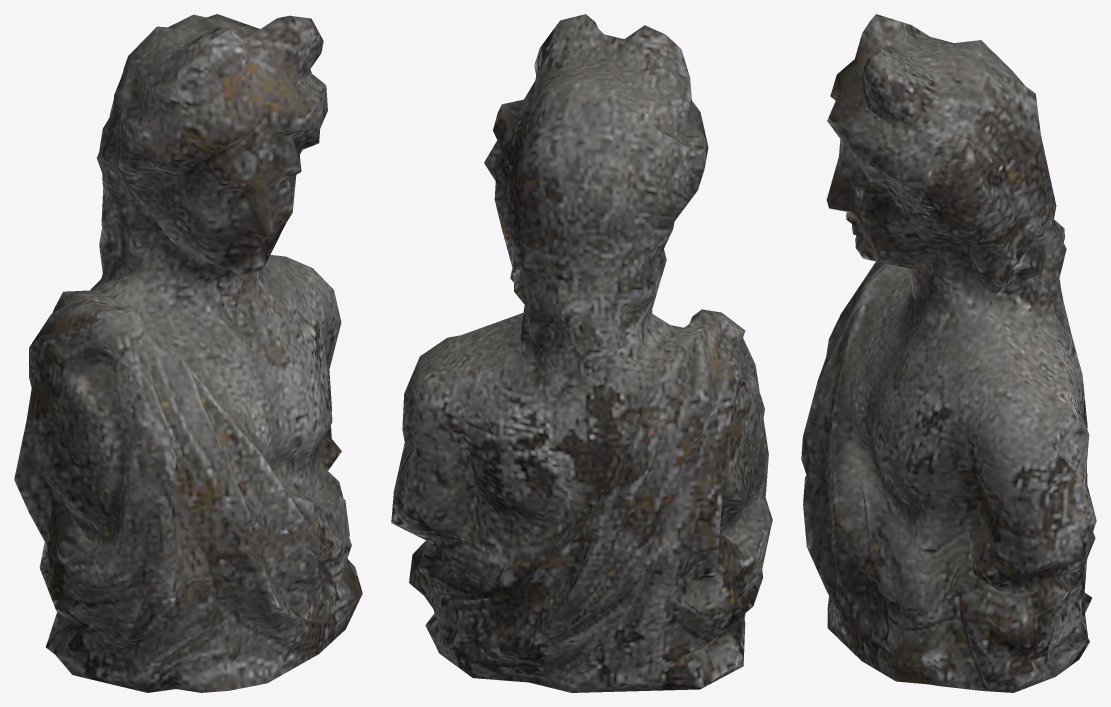
File: 079_buststatue01a.fbx
3 views of the same model, side by side, from view 1: azimuth 30°, elevation 25°; view 2: azimuth 150°, elevation 25°; view 3: azimuth 270°, elevation 25° (orthographic). The views are drawn at different scales.
Parts seen in each view (by area): view 1: LOD_1_Group_0_Sub_1__sm32_079_BustStatue01A_B_Mat; view 2: LOD_1_Group_0_Sub_1__sm32_079_BustStatue01A_B_Mat; view 3: LOD_1_Group_0_Sub_1__sm32_079_BustStatue01A_B_Mat.
Part boxes in pixels (x1,y1,x2,y2): LOD_1_Group_0_Sub_1__sm32_079_BustStatue01A_B_Mat: (14,14,362,692); LOD_1_Group_0_Sub_1__sm32_079_BustStatue01A_B_Mat: (391,14,772,692); LOD_1_Group_0_Sub_1__sm32_079_BustStatue01A_B_Mat: (801,14,1096,692).
Size of the model in its own units: 0.2467 by 0.4593 by 0.2028.
